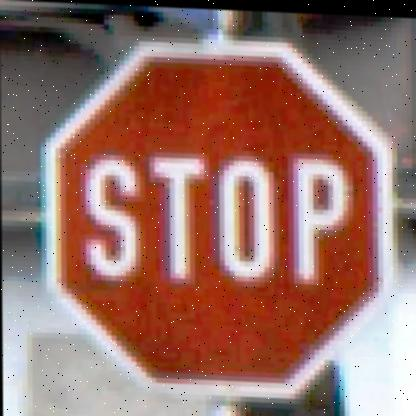Stop Sign: (47, 27, 402, 409)
